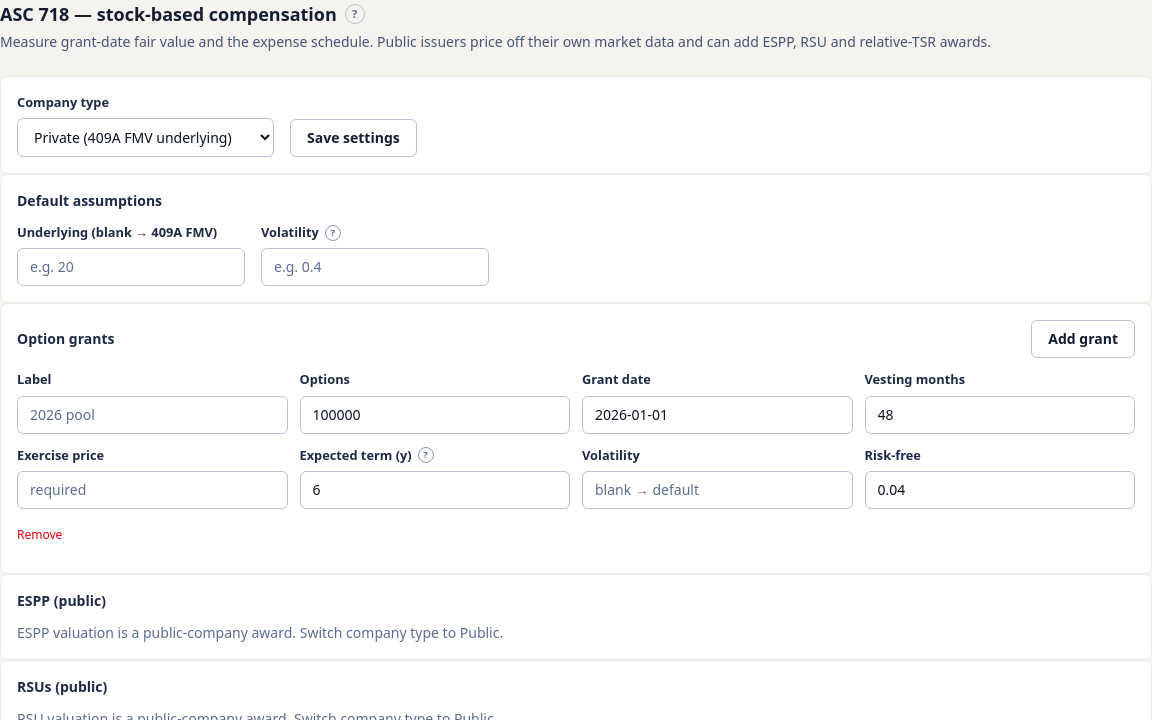
Asc718Tab › renders a contextual HelpIcon that opens the public ASC 718 article
What coordinates should you click on to do the following:
click the button named "Help: ASC 718 for public companies"
I would click on:
 (355, 14)
Its box is [345,4,365,24].
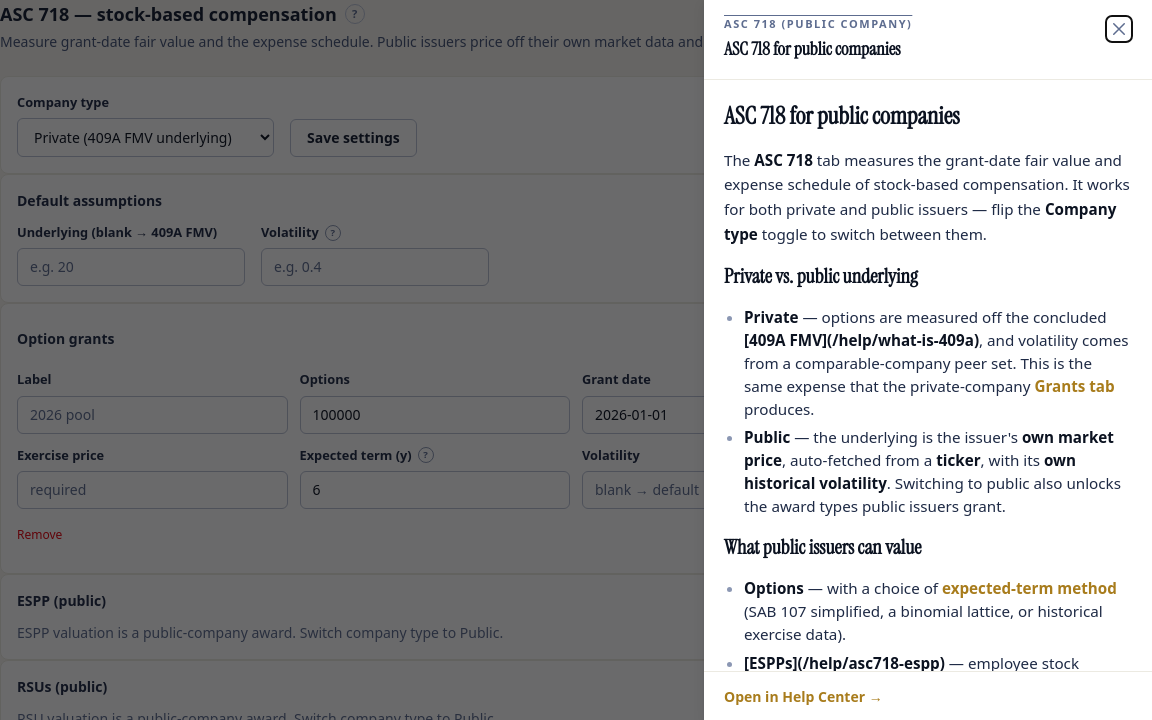
expect the dialog "ASC 718 for public companies" is shown: met, box [704,0,1151,719]
